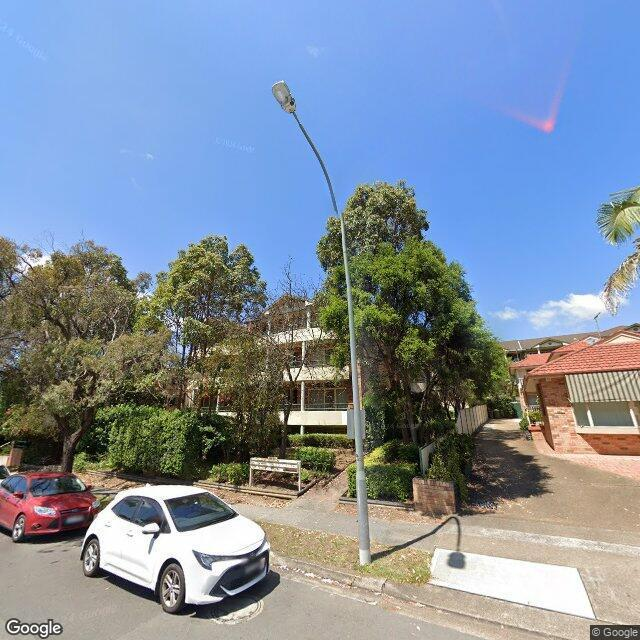steel-pole: (344, 252, 372, 567)
streetlight: (270, 79, 346, 252)
